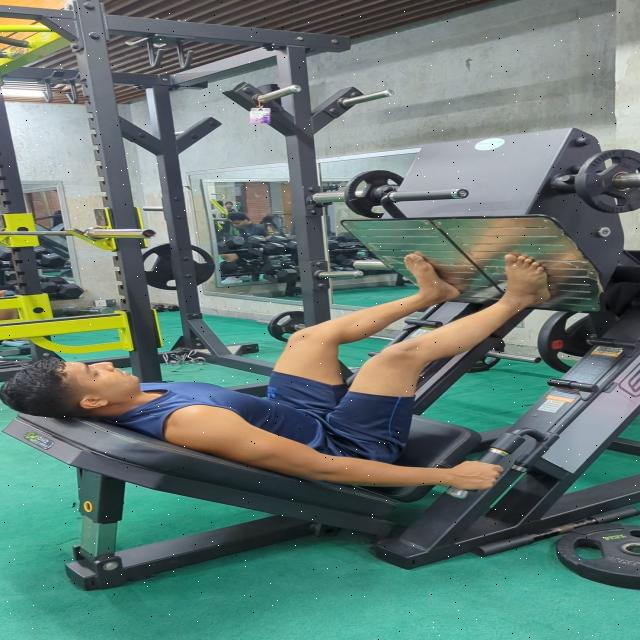Normal_LegPress: (0, 250, 587, 497)
